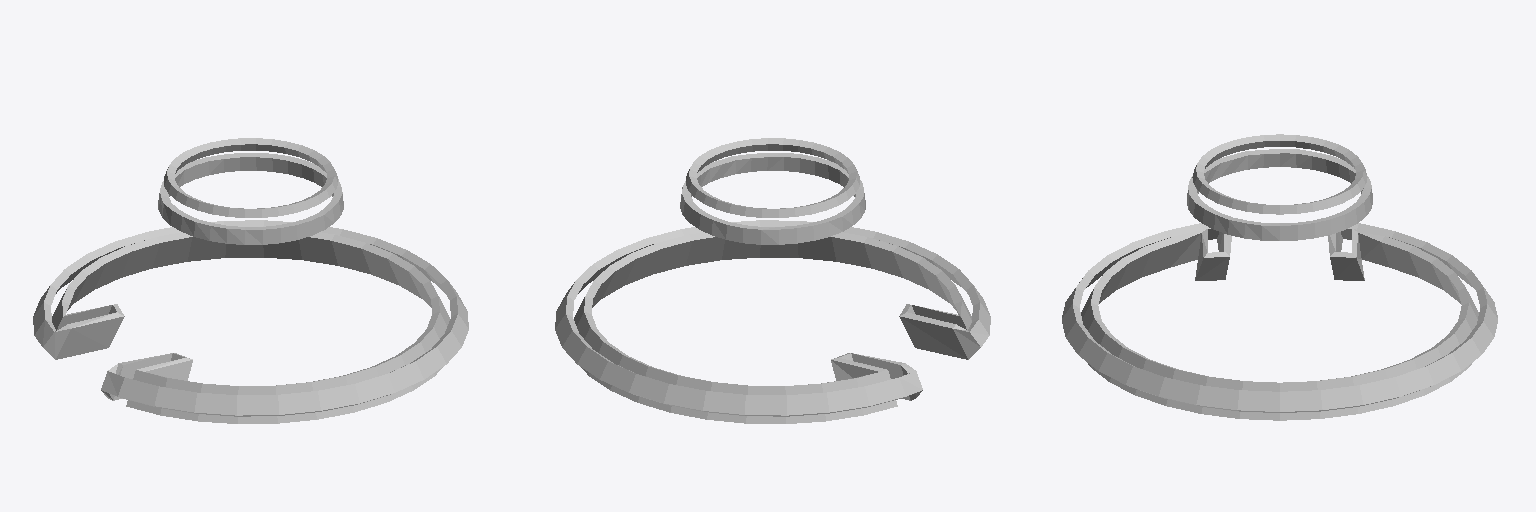
Rendered from canon_laser_red_part.obj.
The picture shows the model from 3 angles: view 1: azimuth 30°, elevation 25°; view 2: azimuth 150°, elevation 25°; view 3: azimuth 270°, elevation 25°; orthographic projection.
Visible parts, largest first — view 1: canon_laser.001; view 2: canon_laser.001; view 3: canon_laser.001.
Part boxes in pixels (x1,y1,x2,y2): canon_laser.001: (33,138,468,423); canon_laser.001: (555,138,990,423); canon_laser.001: (1062,134,1497,420).
Size of the model in its own units: 10.43 by 4.53 by 10.72.